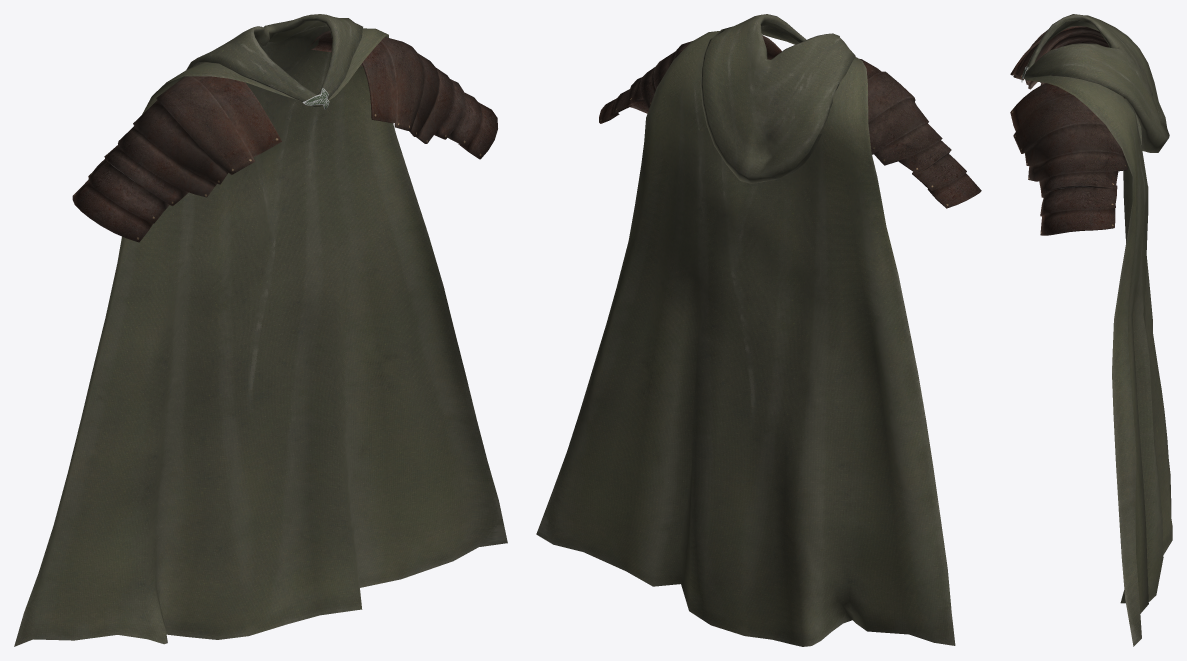
The model's file is legolas_shoulder.fbx.
The picture shows the model from 3 angles, left to right: view 1: azimuth 30°, elevation 25°; view 2: azimuth 150°, elevation 25°; view 3: azimuth 270°, elevation 25°; orthographic projection. The views are drawn at different scales.
Visible parts, largest first — view 1: legolas_shoulder; view 2: legolas_shoulder; view 3: legolas_shoulder.
Part boxes in pixels (<box>): legolas_shoulder: <box>14,14,507,646</box>; legolas_shoulder: <box>536,14,981,646</box>; legolas_shoulder: <box>1010,14,1172,646</box>.
Bounding box in the file's own units: 1.05 × 0.3615 × 1.35.
1 material, 1 textured.
